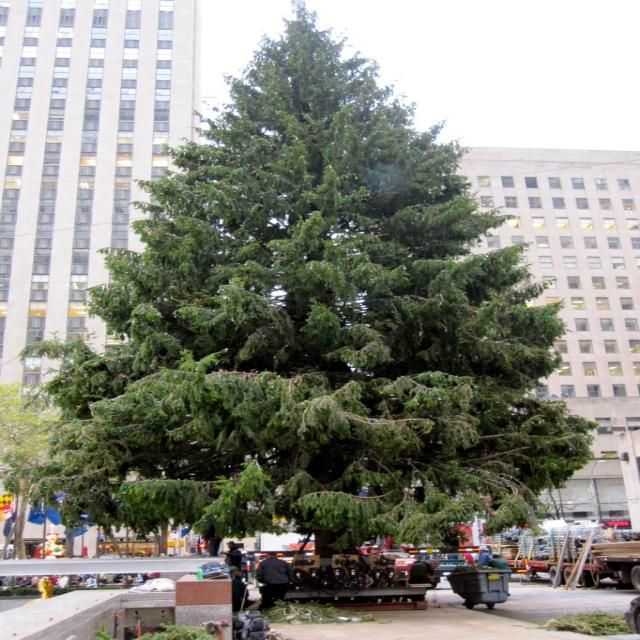Christmas-tree: (70, 0, 589, 539)
